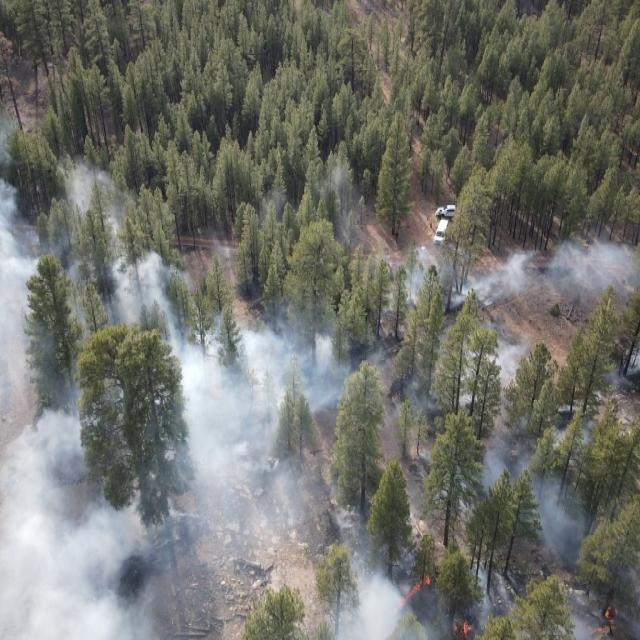fire: (381, 570, 440, 618), (589, 597, 627, 640), (445, 611, 481, 640)
smoke: (352, 317, 640, 640), (148, 244, 350, 640), (0, 106, 148, 640), (350, 242, 640, 316), (256, 152, 370, 248)
